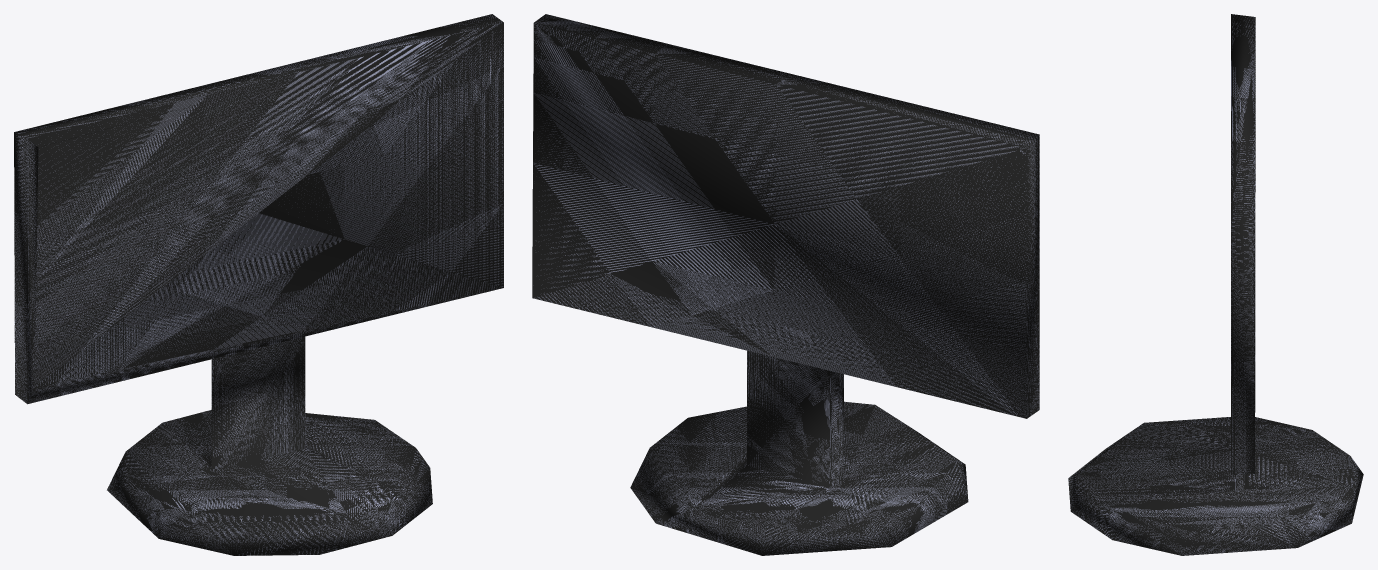
Rendered from Monitor.fbx.
3 renders of one model, left to right at view 1: azimuth 30°, elevation 25°; view 2: azimuth 150°, elevation 25°; view 3: azimuth 270°, elevation 25°, orthographic. The views are drawn at different scales.
Parts seen in each view (by area): view 1: Model; view 2: Model; view 3: Model.
Boxes of the visible parts, bbox=[...] form: Model: bbox=[14, 14, 503, 555]; Model: bbox=[532, 14, 1039, 555]; Model: bbox=[1068, 14, 1363, 555].
Size of the model in its own units: 3.66 by 2.95 by 2.12.
